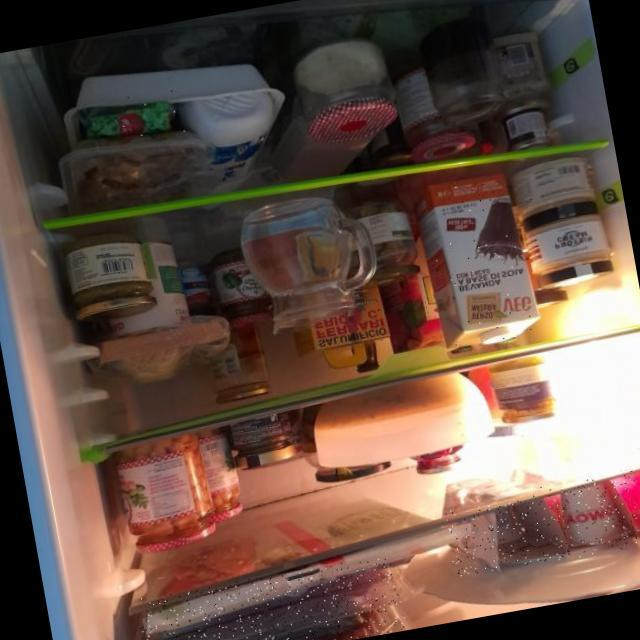Carne cerdo: (138, 553, 397, 640), (135, 580, 406, 640)
Queso: (71, 86, 187, 149)
Yogur: (443, 491, 567, 576), (537, 467, 640, 561), (622, 456, 640, 548)
milk: (421, 170, 533, 347), (164, 81, 292, 207)
